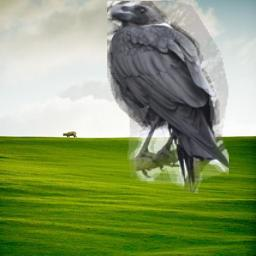Crow: (107, 1, 229, 193)
